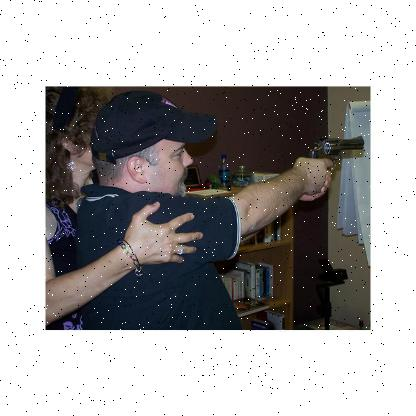gun: (308, 134, 364, 193)
